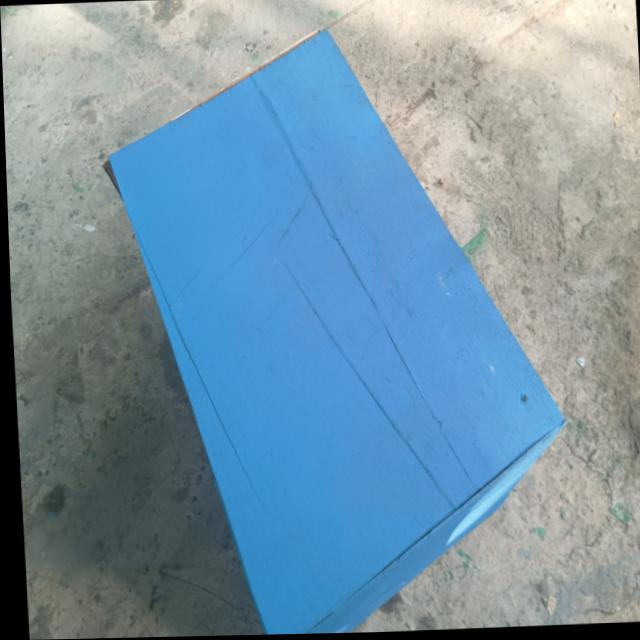blue_box: (96, 17, 576, 633)
